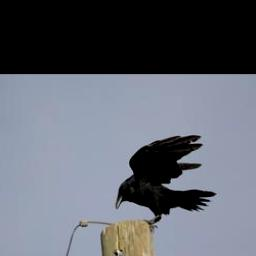Crow: (115, 132, 219, 231)
